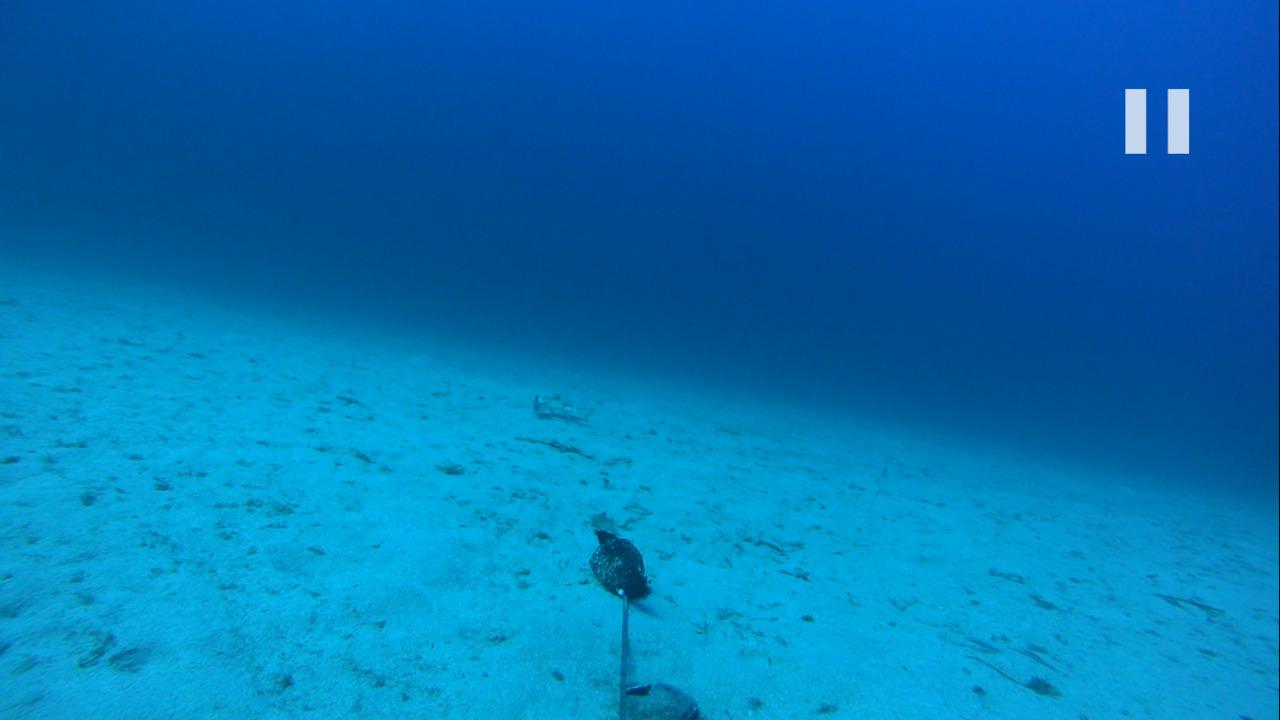dactylopterus: (514, 385, 597, 429)
